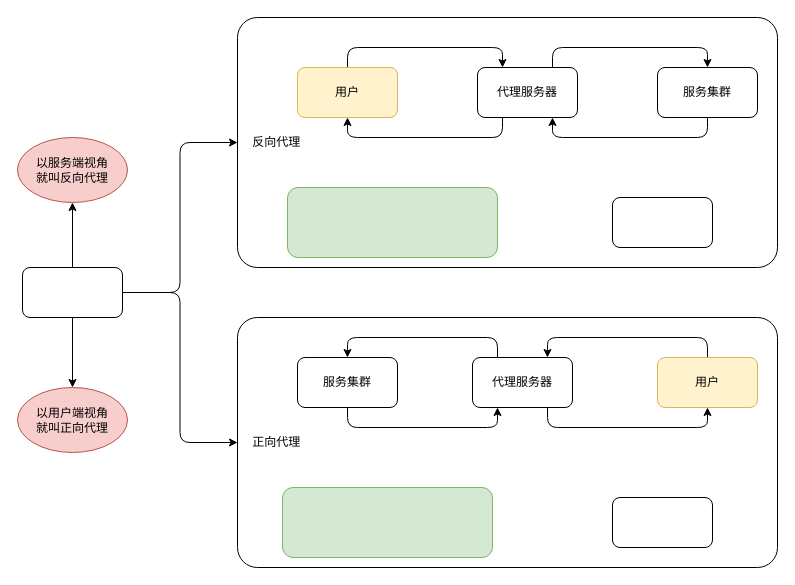
This 795x585 diagram has some shape labels left out. Here are the shapes that lost their labels. From the top down, the centre of each, then its label:
At point (392, 222): "代理服务器 可以和服务集群在一起, 可以做负载均衡, 节约 隐藏 IP地址, 防火墙".
At point (662, 222): "负载".
At point (72, 292): "视角不同".
At point (387, 522): "访问本地无法访问的资源, 缓存, 加速访问, 隐藏访问者行踪".
At point (662, 522): "VPN".
